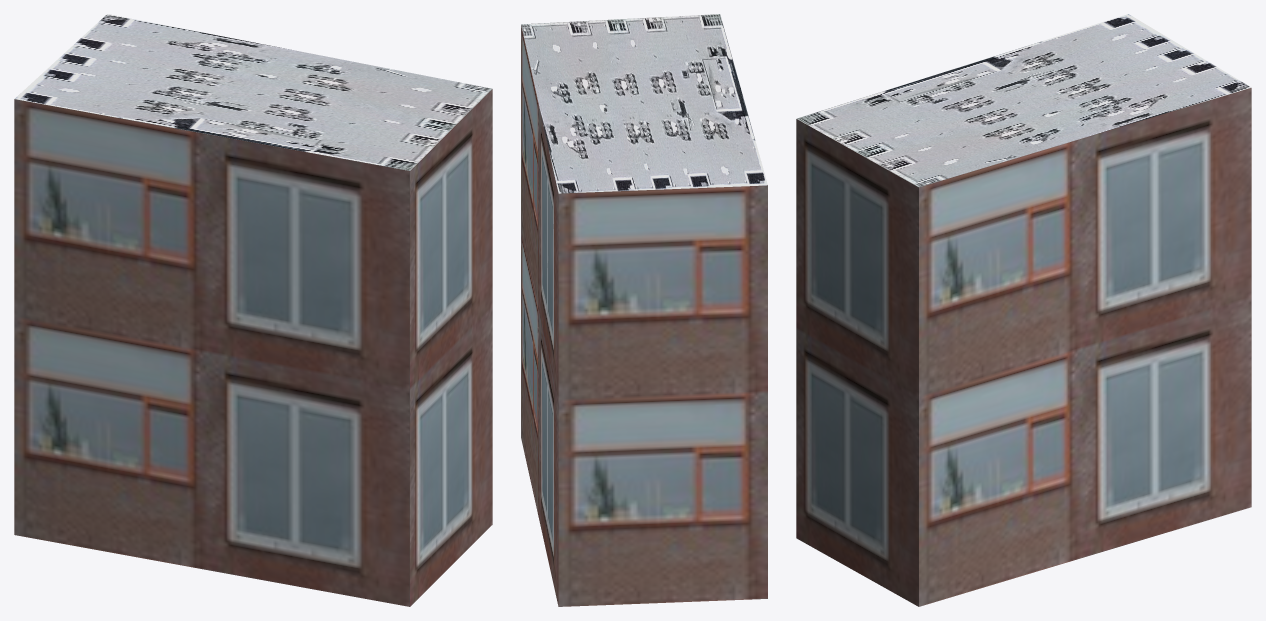
The model's file is ResTex__2800.fbx.
The picture shows the model from 3 angles, left to right: view 1: azimuth 30°, elevation 25°; view 2: azimuth 150°, elevation 25°; view 3: azimuth 270°, elevation 25°; orthographic projection. The views are drawn at different scales.
Parts seen in each view (by area): view 1: CityEngineMaterial_19_m, CityEngineMaterial_15_m; view 2: CityEngineMaterial_19_m, CityEngineMaterial_15_m; view 3: CityEngineMaterial_19_m, CityEngineMaterial_15_m.
Boxes of the visible parts, x1,y1,x2,y2 form: CityEngineMaterial_19_m: (14,89,492,606); CityEngineMaterial_15_m: (15,14,492,170); CityEngineMaterial_19_m: (521,25,767,606); CityEngineMaterial_15_m: (521,14,767,193); CityEngineMaterial_19_m: (796,88,1251,606); CityEngineMaterial_15_m: (796,14,1251,187).
Size of the model in its own units: 5.32 by 6 by 5.9.
2 materials, 2 textured.
